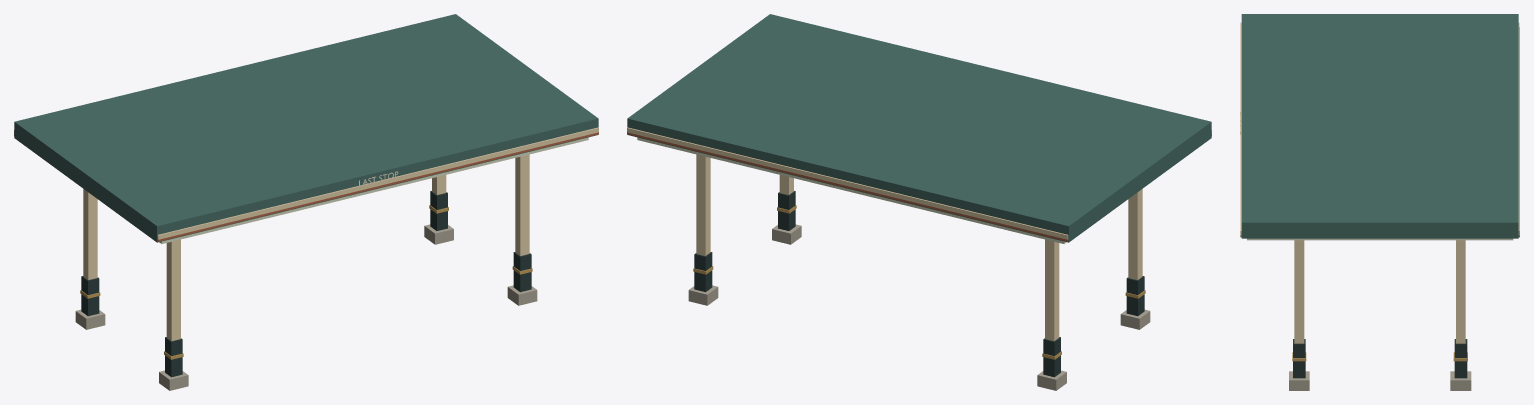
Rendered from fuel_canopy.glb.
3 views of the same model, side by side, from view 1: azimuth 30°, elevation 25°; view 2: azimuth 150°, elevation 25°; view 3: azimuth 270°, elevation 25° (orthographic). The views are drawn at different scales.
Visible parts, largest first — view 1: Parapet canopy roof, Cream fascia stripe, Steel canopy upright.002, Steel canopy upright, Ribbed soffit panel, Steel canopy upright.001, Terracotta fascia stripe, Lower protective boot.001, Lower protective boot.002, Lower protective boot.003, Lower protective boot; view 2: Parapet canopy roof, Cream fascia stripe.001, Steel canopy upright.003, Steel canopy upright.001, Ribbed soffit panel, Steel canopy upright, Terracotta fascia stripe.001, Lower protective boot, Lower protective boot.003, Lower protective boot.002, Lower protective boot.001; view 3: Parapet canopy roof, Steel canopy upright.002, Steel canopy upright.003, Ribbed soffit panel, Lower protective boot.003, Lower protective boot.002, Cream fascia stripe, Cream fascia stripe.001, Concrete column base.003, Concrete column base.002.
Boxes of the visible parts, x1=… form: Parapet canopy roof: x1=14, y1=14, x2=598, y2=242; Cream fascia stripe: x1=157, y1=127, x2=598, y2=239; Steel canopy upright.002: x1=515, y1=154, x2=529, y2=255; Steel canopy upright: x1=166, y1=239, x2=180, y2=340; Ribbed soffit panel: x1=159, y1=137, x2=588, y2=243; Steel canopy upright.001: x1=83, y1=189, x2=97, y2=279; Terracotta fascia stripe: x1=157, y1=132, x2=598, y2=241; Lower protective boot.001: x1=81, y1=276, x2=99, y2=316; Lower protective boot.002: x1=513, y1=252, x2=531, y2=292; Lower protective boot.003: x1=430, y1=191, x2=447, y2=230; Lower protective boot: x1=165, y1=337, x2=182, y2=377; Parapet canopy roof: x1=627, y1=14, x2=1211, y2=242; Cream fascia stripe.001: x1=627, y1=127, x2=1068, y2=239; Steel canopy upright.003: x1=696, y1=154, x2=710, y2=255; Steel canopy upright.001: x1=1045, y1=239, x2=1059, y2=340; Ribbed soffit panel: x1=637, y1=137, x2=1066, y2=243; Steel canopy upright: x1=1128, y1=189, x2=1142, y2=279; Terracotta fascia stripe.001: x1=627, y1=132, x2=1068, y2=241; Lower protective boot: x1=1126, y1=276, x2=1144, y2=316; Lower protective boot.003: x1=694, y1=252, x2=712, y2=292; Lower protective boot.002: x1=778, y1=191, x2=795, y2=230; Lower protective boot.001: x1=1043, y1=337, x2=1060, y2=377; Parapet canopy roof: x1=1241, y1=14, x2=1518, y2=238; Steel canopy upright.002: x1=1294, y1=240, x2=1304, y2=343; Steel canopy upright.003: x1=1456, y1=240, x2=1465, y2=343; Ribbed soffit panel: x1=1247, y1=238, x2=1513, y2=240; Lower protective boot.003: x1=1454, y1=339, x2=1467, y2=378; Lower protective boot.002: x1=1293, y1=339, x2=1305, y2=378; Cream fascia stripe: x1=1240, y1=22, x2=1241, y2=235; Cream fascia stripe.001: x1=1518, y1=22, x2=1519, y2=235; Concrete column base.003: x1=1450, y1=371, x2=1471, y2=390; Concrete column base.002: x1=1289, y1=371, x2=1309, y2=390.
Bounding box in the file's own units: 11.62 × 4.82 × 6.58.
